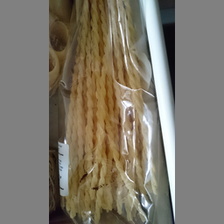pasta: (64, 1, 155, 222)
